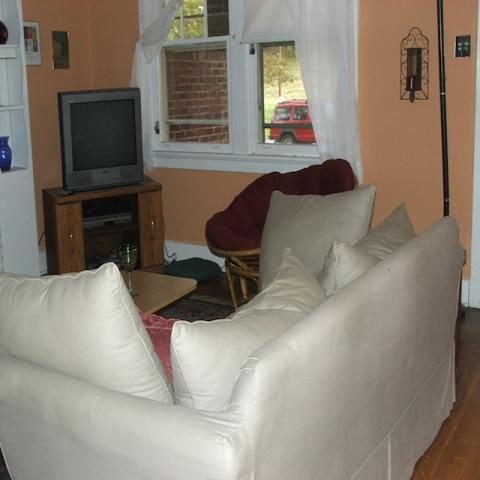car: (268, 100, 314, 145)
